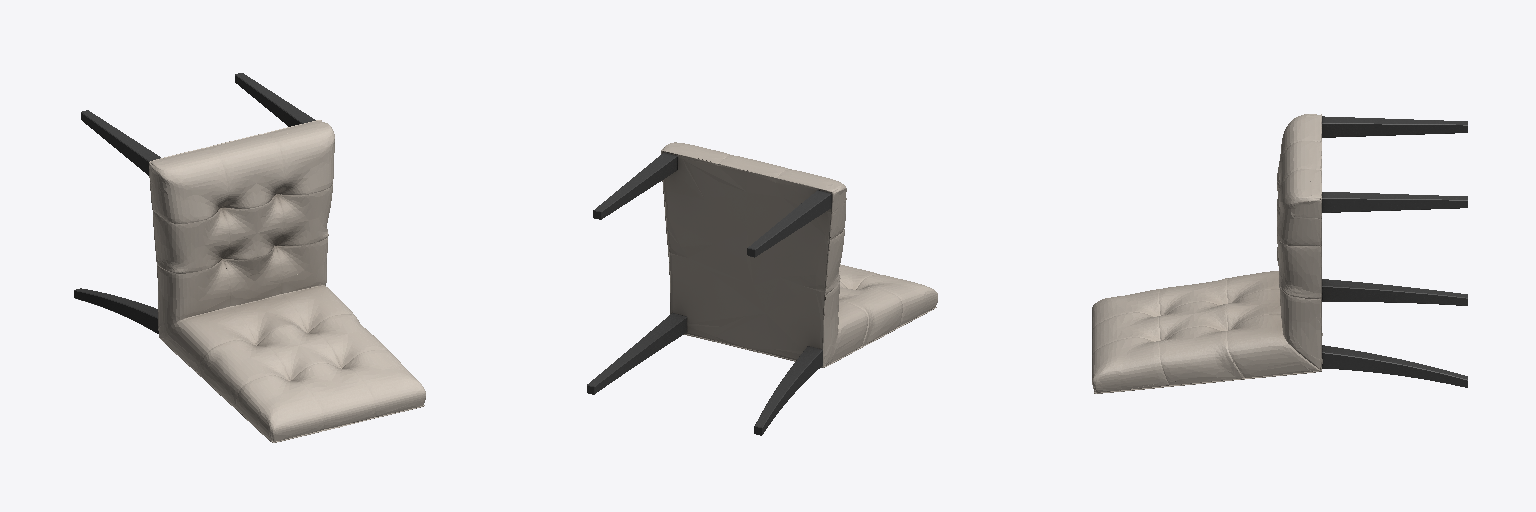
The picture shows the model from 3 angles: view 1: azimuth 30°, elevation 25°; view 2: azimuth 150°, elevation 25°; view 3: azimuth 270°, elevation 25°; orthographic projection.
Bounding box in the file's own units: 0.5241 × 0.5751 × 0.9675.
Materials: 1 (1 with a texture image).